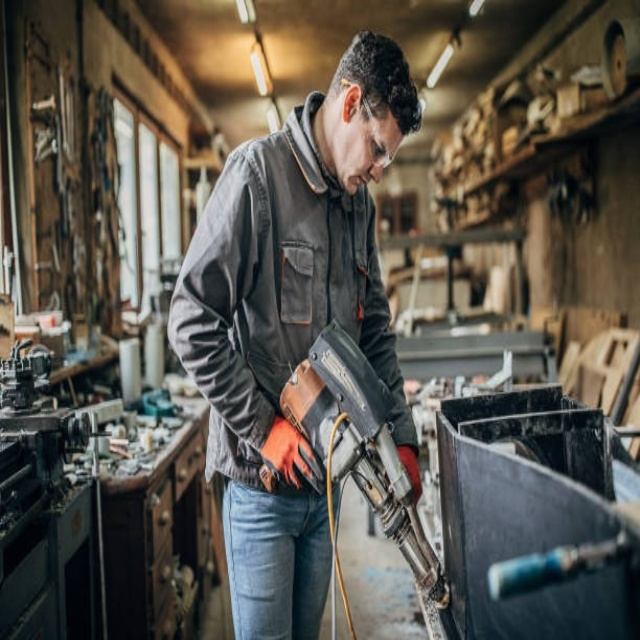Gafas: (353, 86, 397, 170)
Guantes: (260, 417, 321, 493), (394, 444, 423, 506)
Sin_mascara: (343, 166, 379, 198)
